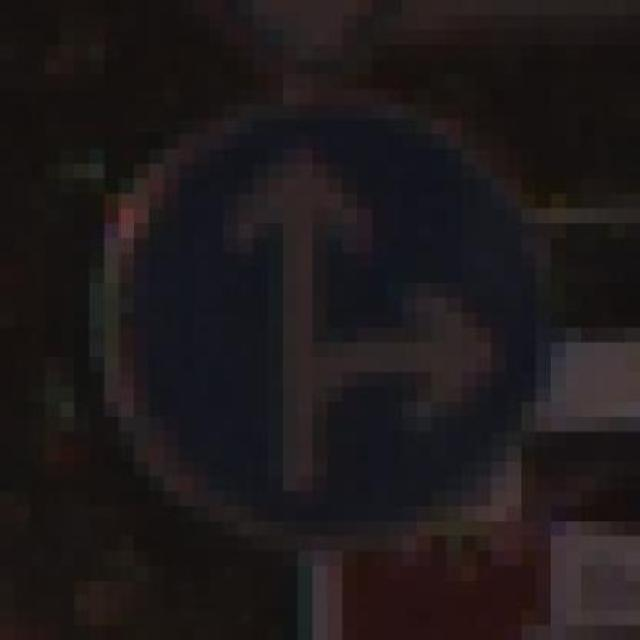Go Straight or Turn Right: (59, 89, 581, 551)
